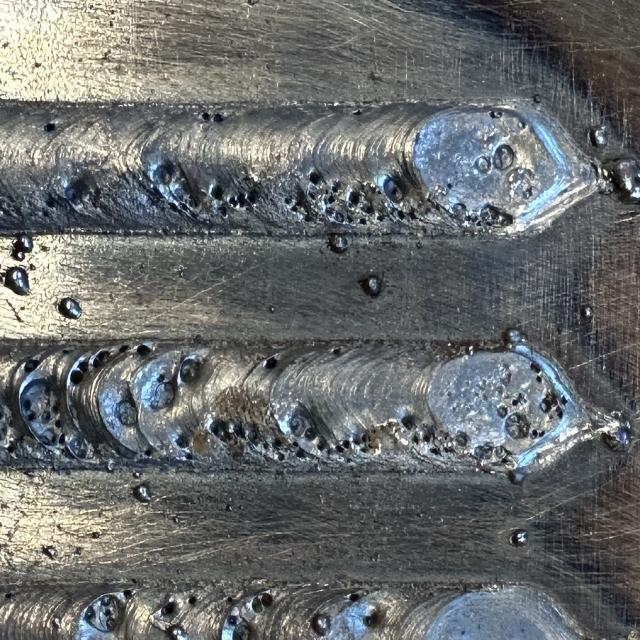Porosity: (428, 352, 566, 455), (20, 378, 64, 447), (324, 192, 372, 226), (84, 593, 125, 632), (205, 415, 258, 443), (61, 172, 98, 205), (290, 417, 320, 455), (474, 442, 515, 469), (0, 398, 20, 452), (345, 185, 374, 218), (89, 345, 130, 368), (221, 613, 254, 640), (65, 430, 94, 460), (378, 173, 406, 204), (285, 192, 312, 222), (179, 352, 205, 383), (451, 203, 485, 226), (349, 428, 379, 454), (480, 203, 512, 227), (262, 435, 290, 461), (225, 188, 259, 208), (416, 193, 441, 220), (150, 382, 174, 410), (492, 143, 515, 170), (149, 160, 174, 184), (116, 400, 138, 426), (69, 357, 89, 385), (181, 180, 200, 209), (321, 180, 341, 207), (364, 605, 386, 629), (411, 425, 435, 444), (251, 592, 272, 613), (171, 433, 190, 454), (291, 438, 308, 458), (401, 413, 421, 430), (396, 207, 418, 221), (474, 155, 491, 172), (212, 200, 228, 218), (208, 180, 222, 200), (160, 600, 176, 617), (136, 342, 155, 356), (24, 358, 40, 373), (308, 167, 322, 184), (454, 432, 469, 447), (262, 355, 278, 369), (306, 183, 318, 200), (335, 440, 350, 453), (44, 122, 56, 132), (348, 592, 360, 602), (226, 595, 240, 603), (430, 445, 441, 455), (212, 113, 224, 122), (144, 448, 154, 458), (122, 590, 132, 600), (156, 373, 166, 382), (59, 348, 71, 355), (202, 112, 210, 122), (331, 347, 341, 355), (189, 595, 196, 605)
Spatters: (604, 157, 640, 202), (4, 267, 30, 295), (58, 297, 82, 318), (360, 275, 381, 297), (502, 328, 525, 348), (311, 613, 330, 637), (589, 125, 608, 148), (12, 233, 34, 252), (132, 483, 151, 503), (328, 234, 349, 252), (166, 623, 188, 640), (510, 528, 528, 546), (508, 468, 525, 484), (41, 545, 58, 560), (581, 305, 594, 319), (11, 248, 25, 261), (465, 342, 478, 354), (51, 615, 61, 629), (106, 458, 115, 472), (178, 265, 185, 278), (532, 93, 541, 103), (132, 470, 141, 478), (171, 515, 180, 523), (74, 547, 82, 555), (225, 503, 232, 512), (91, 532, 100, 538), (269, 305, 275, 313), (139, 263, 144, 270)
